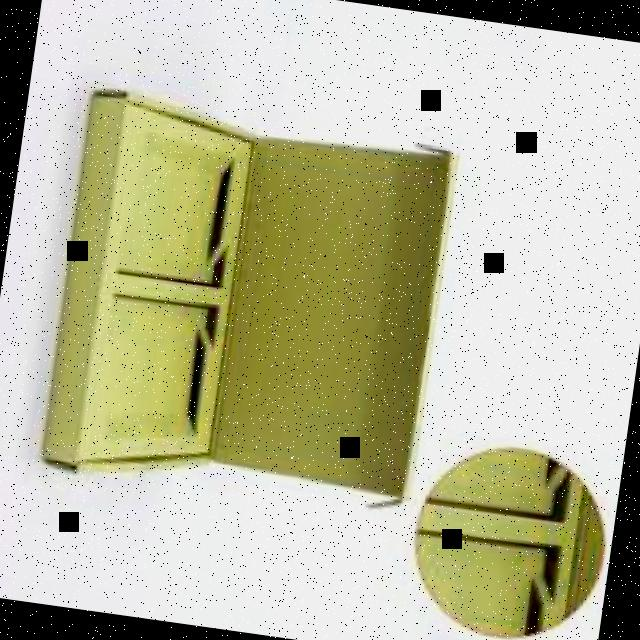cardboard_box: (44, 91, 463, 518)
